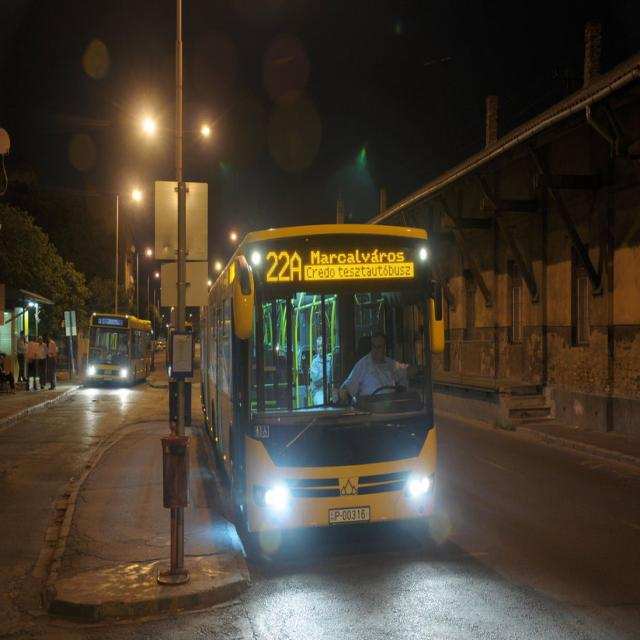Bus: (182, 201, 449, 570), (84, 294, 155, 409)
People: (348, 323, 426, 441), (38, 324, 60, 379), (33, 329, 50, 392), (15, 326, 33, 385)
